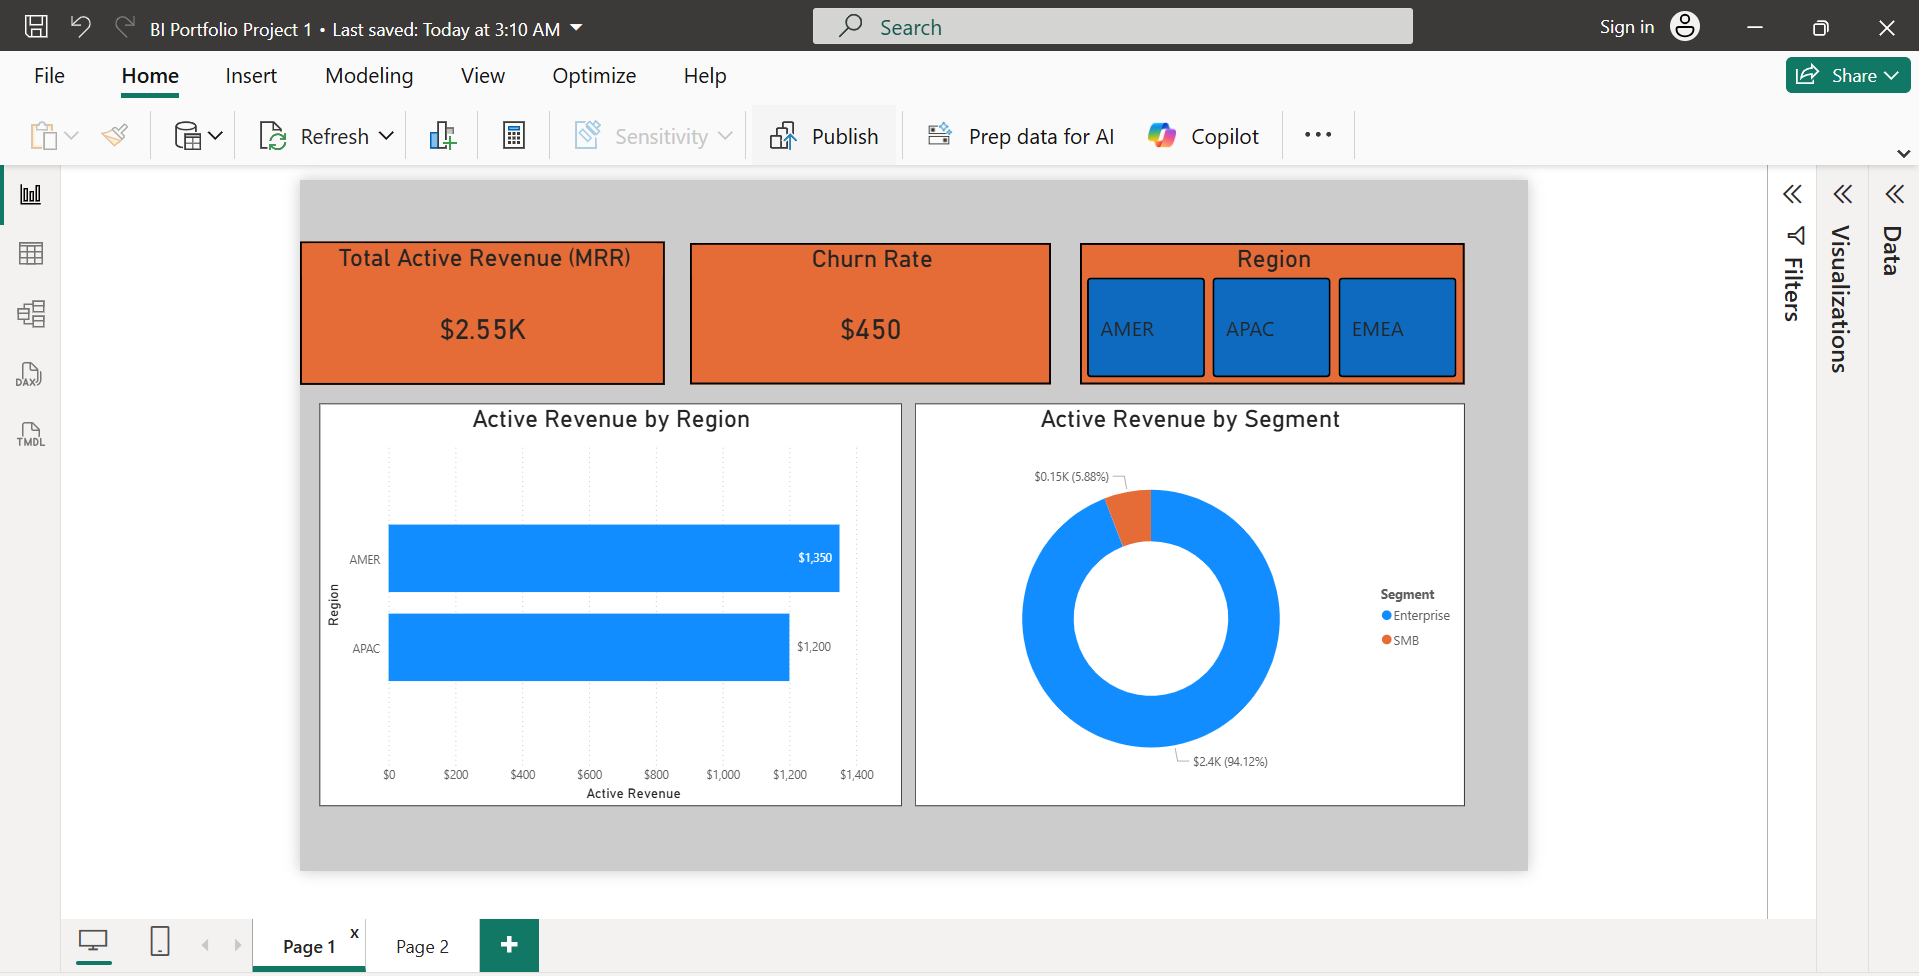

The dashboard page shown, as its layout file describes it:
{"tool":"powerbi","page":{"name":"Page 1","canvas":[1280,720],"ordinal":0},"visuals":[{"type":"card","title":"Total Active Revenue (MRR)","fields":{"Values":["Fact_Subscriptions.Active Revenue"]},"box":[0,64.3,379.8,149.3],"z":0},{"type":"card","title":"Churn Rate","fields":{"Values":["Fact_Subscriptions.Churn Rate"]},"box":[406.3,66.1,376.1,147.4],"z":1000},{"type":"advancedSlicerVisual","fields":{"Values":["Dim_Customers.Region"]},"box":[812.6,66.1,400.6,147.4],"z":2000},{"type":"clusteredBarChart","fields":{"Category":["Dim_Customers.Region"],"Y":["Fact_Subscriptions.Active Revenue"]},"box":[20.8,232.4,606.6,419.5],"z":3000},{"type":"donutChart","fields":{"Category":["Dim_Customers.Segment"],"Y":["Fact_Subscriptions.Active Revenue"]},"box":[640.6,232.4,572.6,419.5],"z":4000}]}

Visuals, with their boxes on the page's 1280x720 design canvas (x1, y1, x2, y2). These are canvas units, not pixel positions in the 1919x976 screenshot, which may show the page scaled, cropped or inside an application window:
"Total Active Revenue (MRR)" card: (x1=0, y1=64, x2=380, y2=214)
"Churn Rate" card: (x1=406, y1=66, x2=782, y2=214)
advancedSlicerVisual - Dim_Customers.Region: (x1=813, y1=66, x2=1213, y2=214)
clusteredBarChart - Dim_Customers.Region x Fact_Subscriptions.Active Revenue: (x1=21, y1=232, x2=627, y2=652)
donutChart - Dim_Customers.Segment x Fact_Subscriptions.Active Revenue: (x1=641, y1=232, x2=1213, y2=652)
